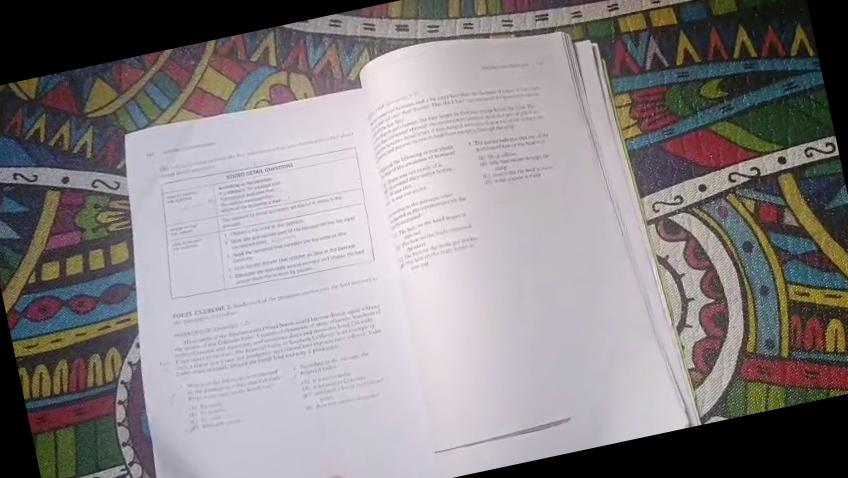Kertas: (348, 37, 680, 478), (125, 74, 479, 478)
